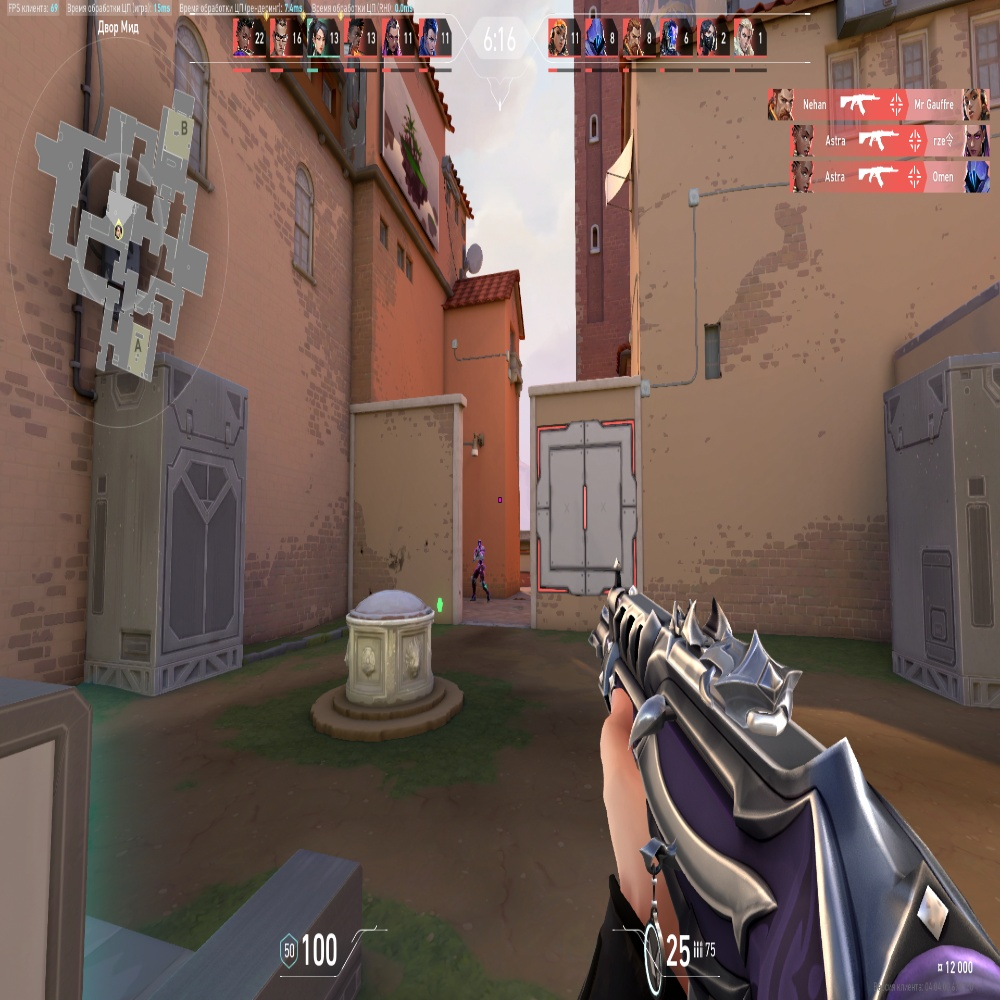body: (474, 550, 487, 572)
head: (477, 540, 482, 548)
